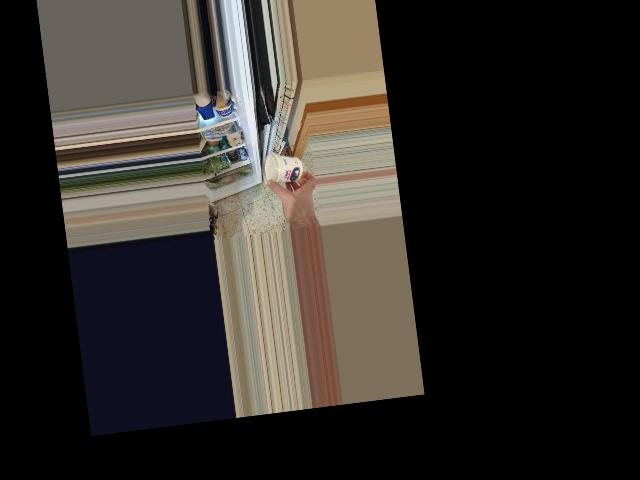cotage: (263, 149, 303, 188)
